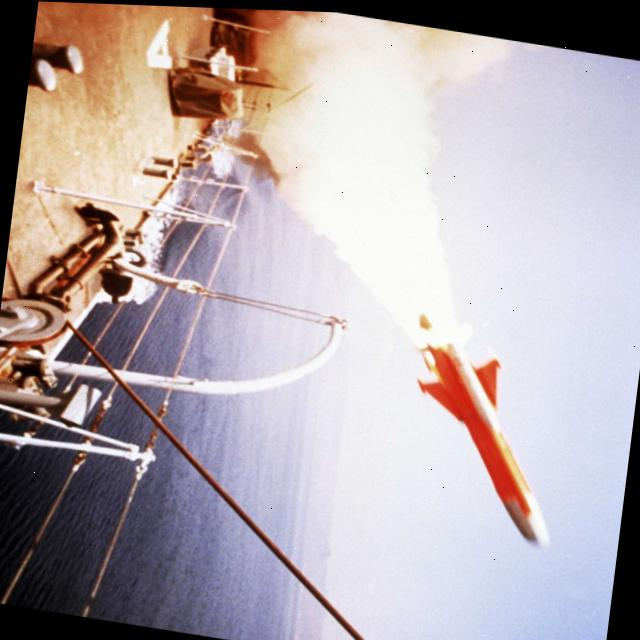missile: (391, 326, 576, 546)
